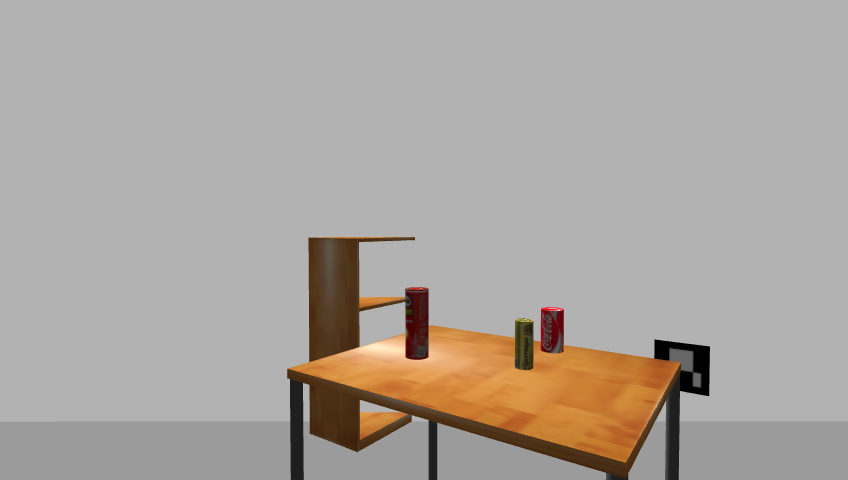aruco marker: (649, 337, 715, 398)
biscuits pack: (513, 319, 535, 371)
bookshelf: (302, 233, 419, 456)
coke can: (539, 306, 566, 355)
dinner table: (281, 327, 692, 480)
pringles can: (402, 286, 431, 362)
